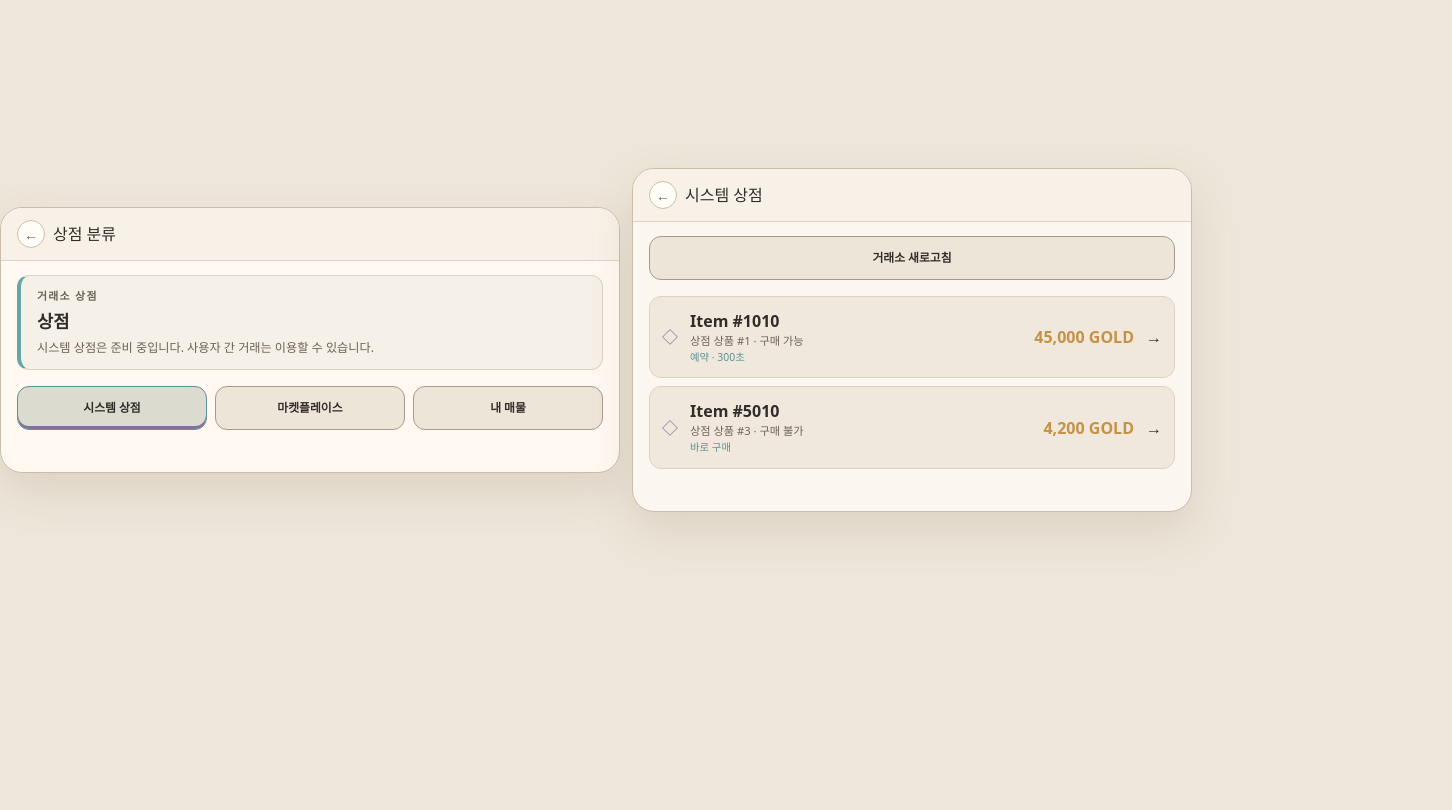
Test case: canonical Exchange surfaces › keeps an existing RESERVED purchase readable without exposing confirmation
Step 1. Click the button "◇ Item #1010 상점 상품 #1 · 구매 가능 예약 · 300초 45,000 GOLD →" → (735, 321), box [649, 296, 1175, 378]
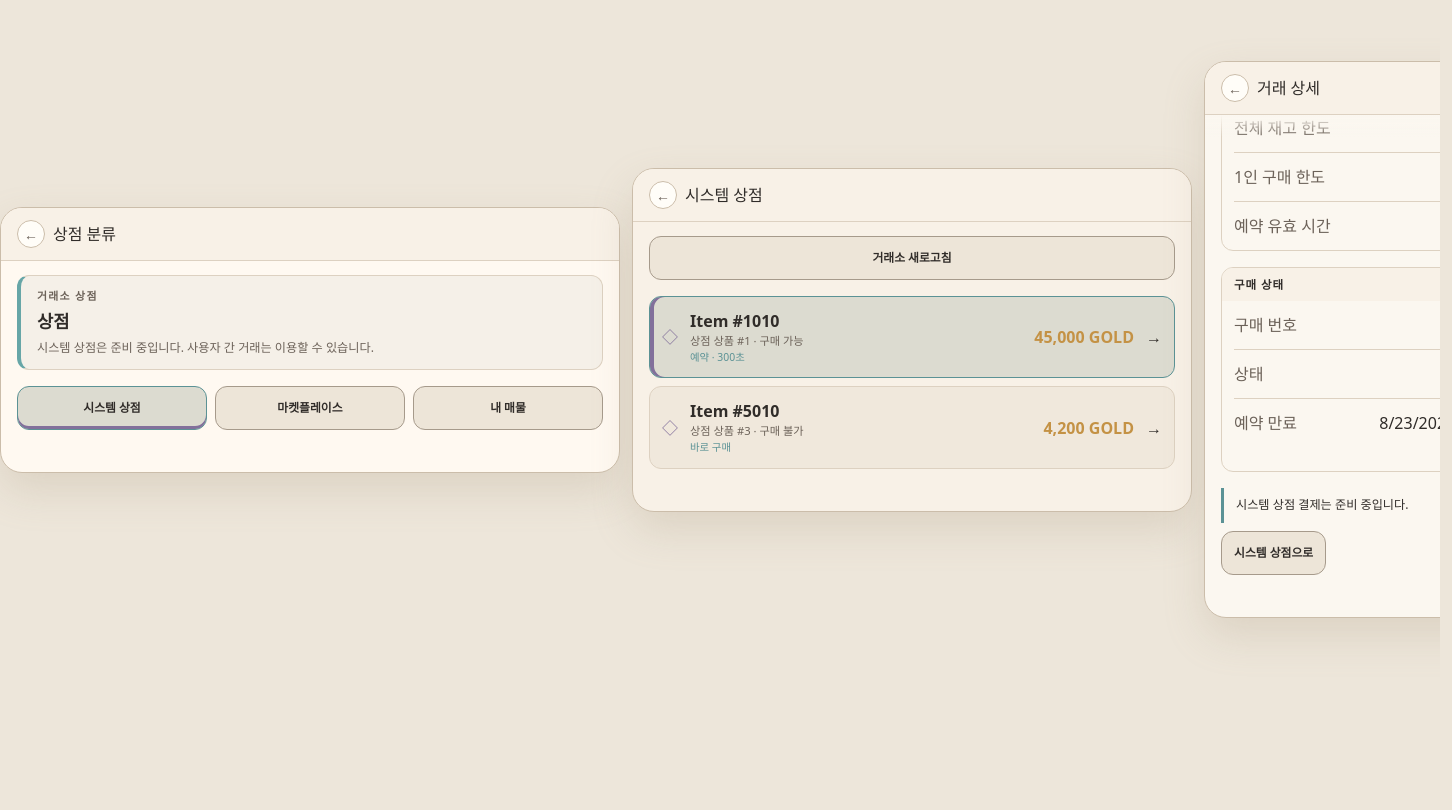
Expected: the text "구매 번호" is shown, [1234, 315, 1297, 337]
